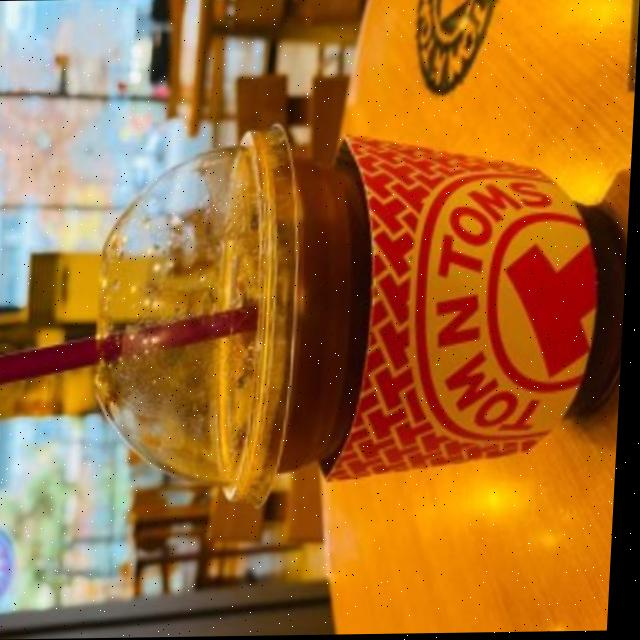cup: (283, 138, 628, 481)
